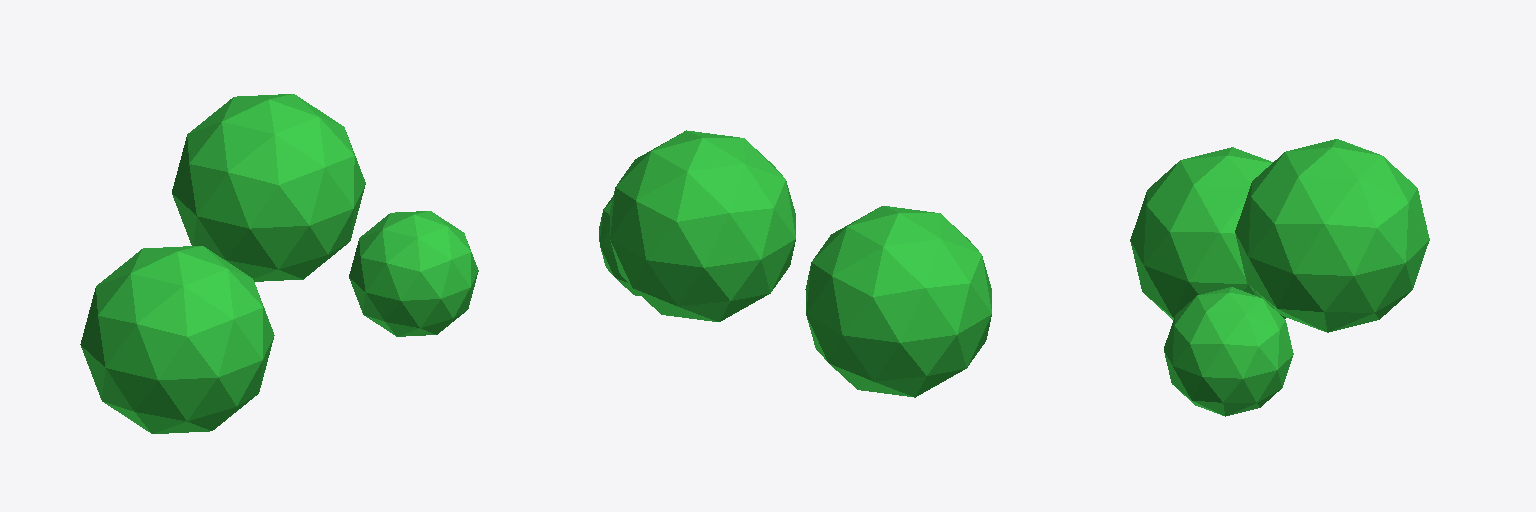
Rendered from tree-top.obj.
3 views of the same model, side by side, from view 1: azimuth 30°, elevation 25°; view 2: azimuth 150°, elevation 25°; view 3: azimuth 270°, elevation 25° (orthographic).
Parts seen in each view (by area): view 1: Icosphere.001, Icosphere, Icosphere.002; view 2: Icosphere.001, Icosphere, Icosphere.002; view 3: Icosphere, Icosphere.001, Icosphere.002.
Part boxes in pixels (x1,y1,x2,y2): Icosphere.001: (80,246,274,433); Icosphere: (172,94,365,281); Icosphere.002: (349,211,478,336); Icosphere.001: (805,206,991,397); Icosphere: (609,130,795,321); Icosphere.002: (599,195,640,295); Icosphere: (1235,139,1429,332); Icosphere.001: (1130,147,1285,319); Icosphere.002: (1164,287,1293,416).
Bounding box in the file's own units: 9 × 5.87 × 6.23.